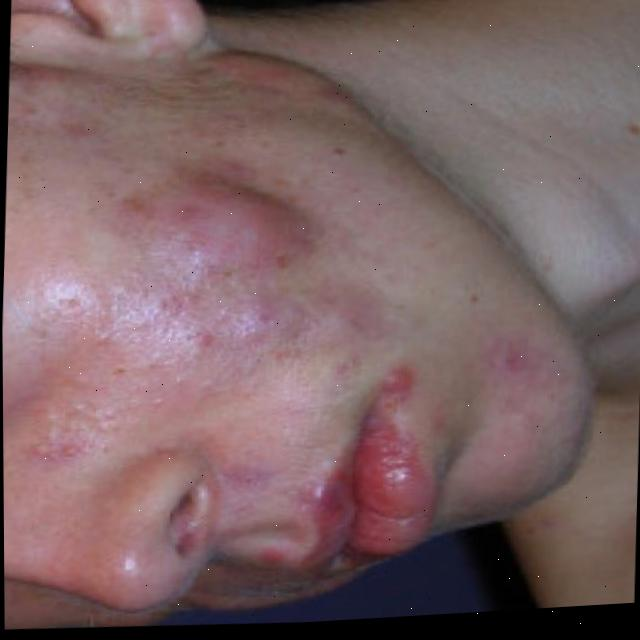Acne: (16, 151, 404, 487), (481, 323, 560, 394)
